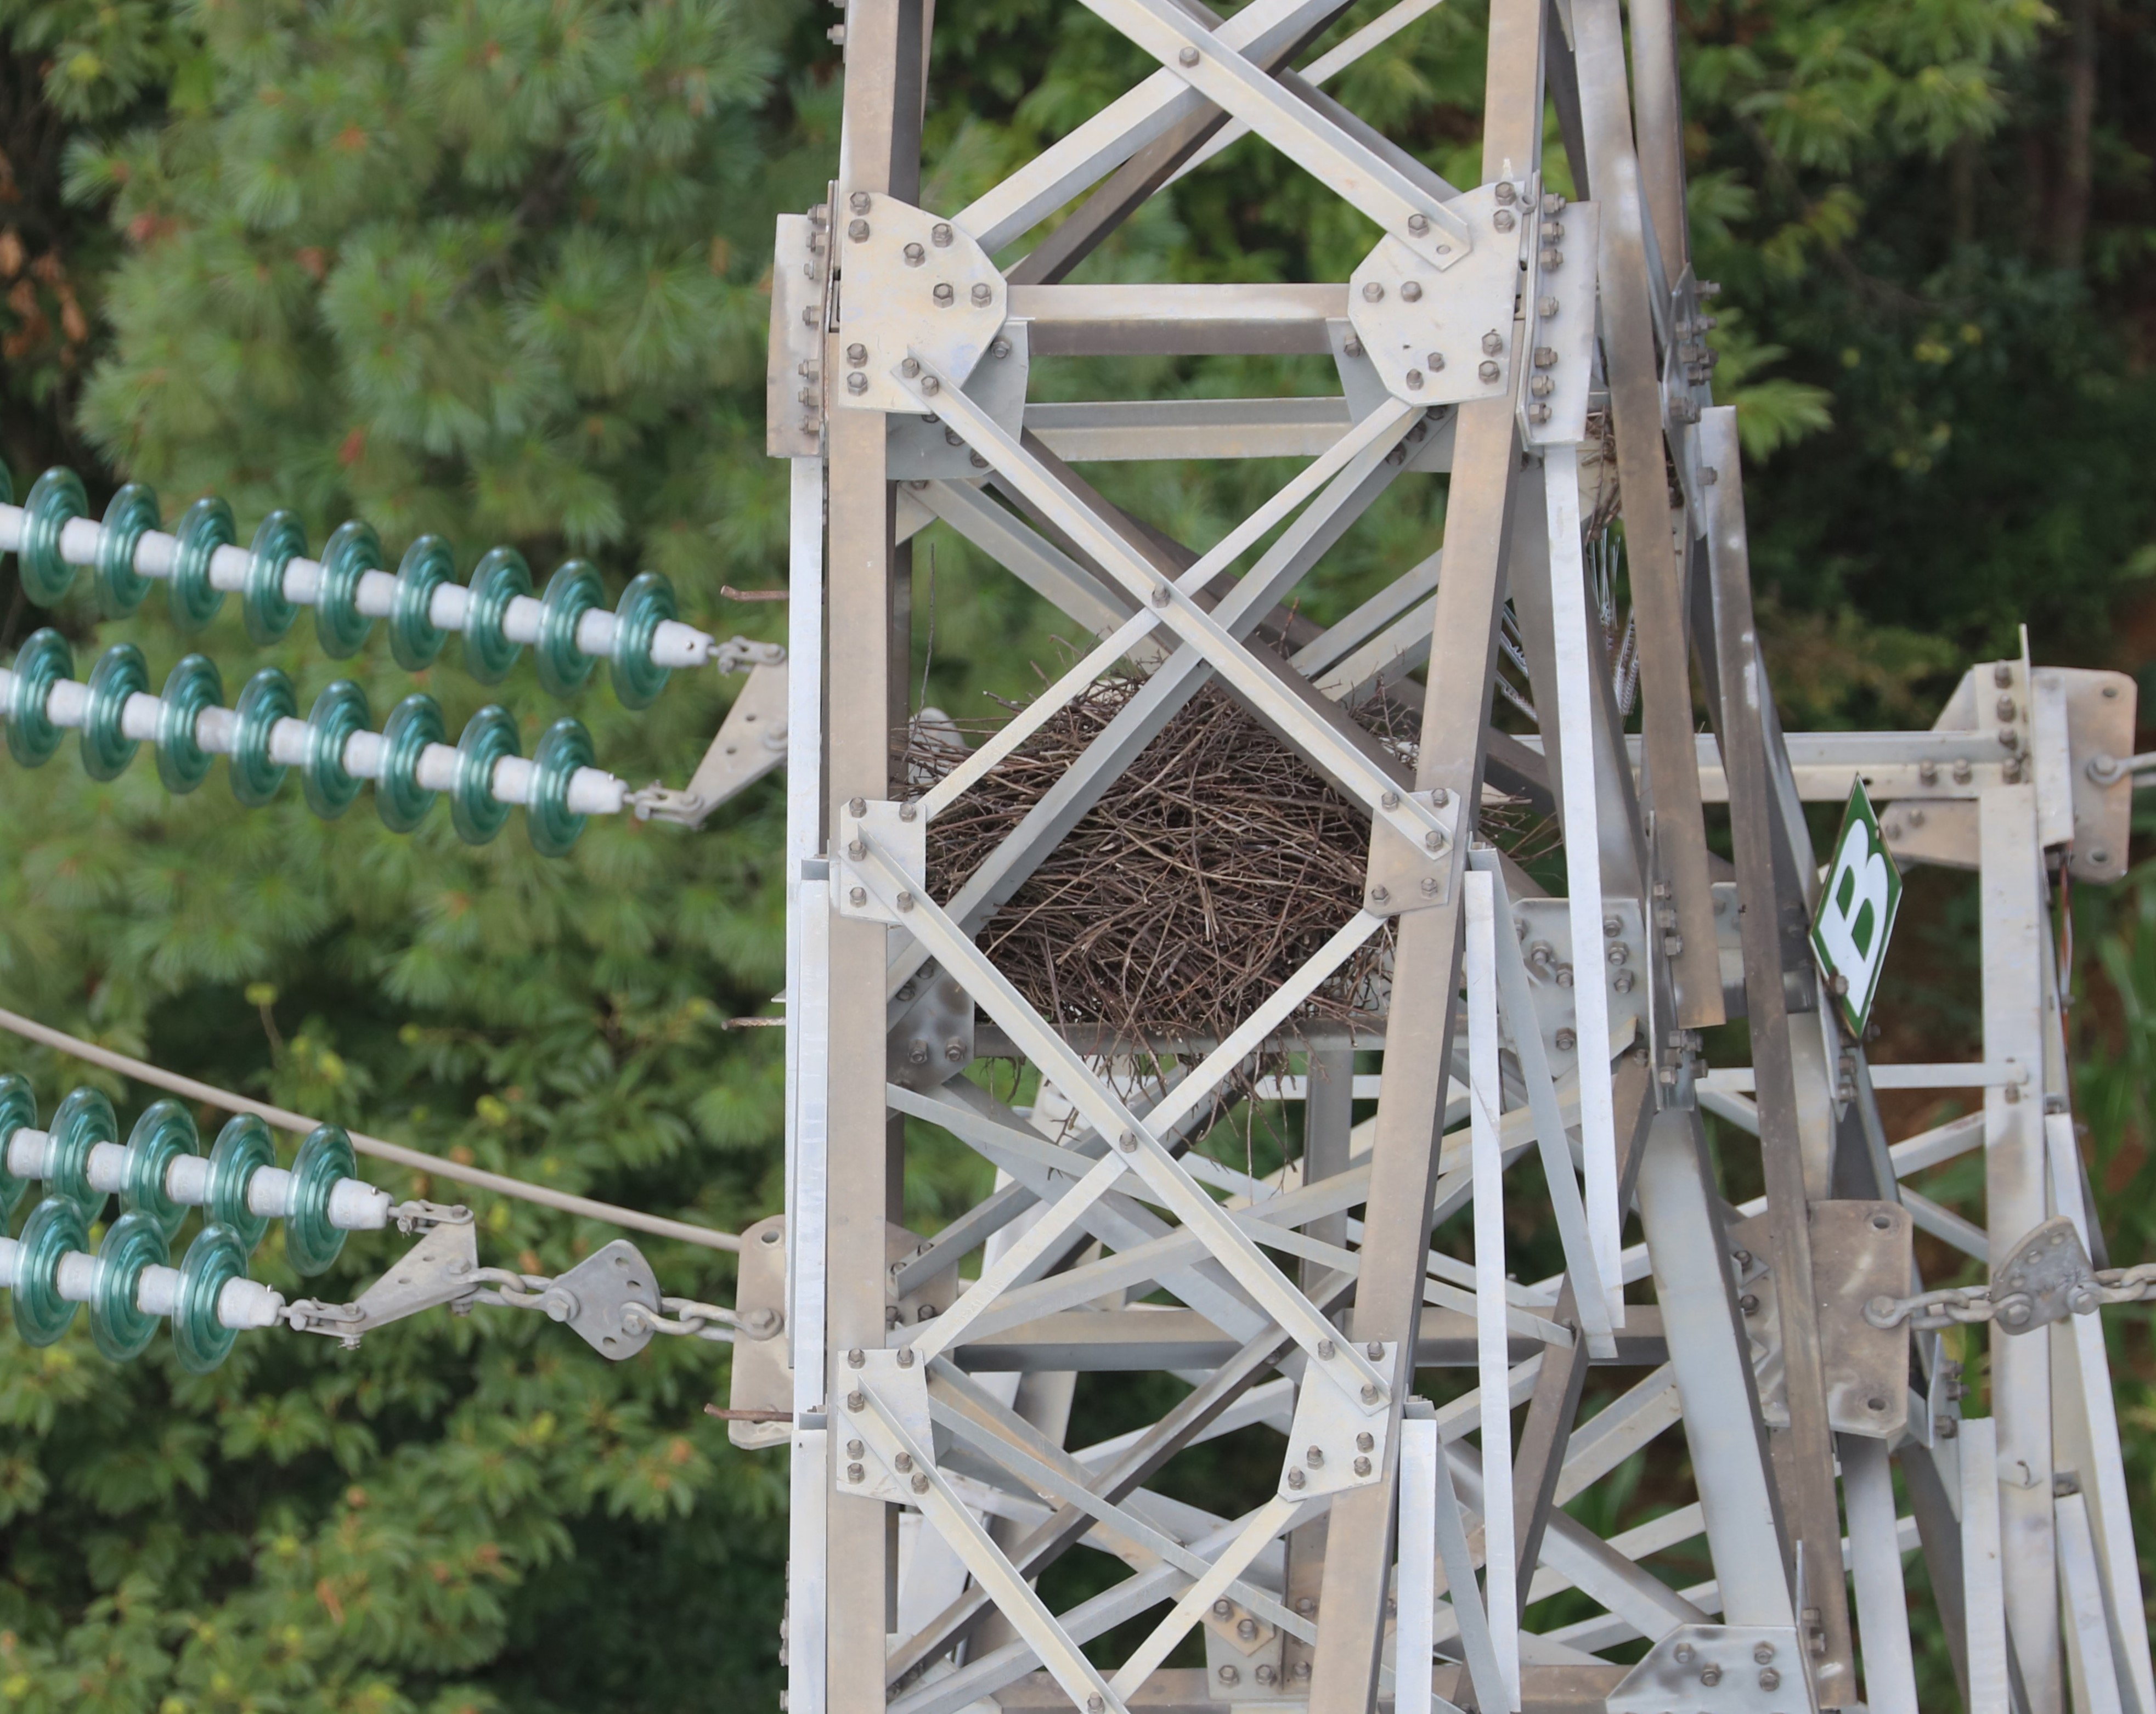niaowo: (908, 605, 1494, 1070)
